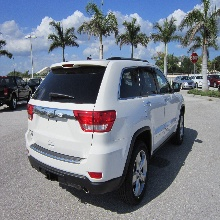no damage: (24, 59, 187, 205)
